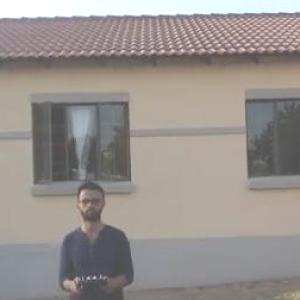follow: (56, 175, 137, 299)
